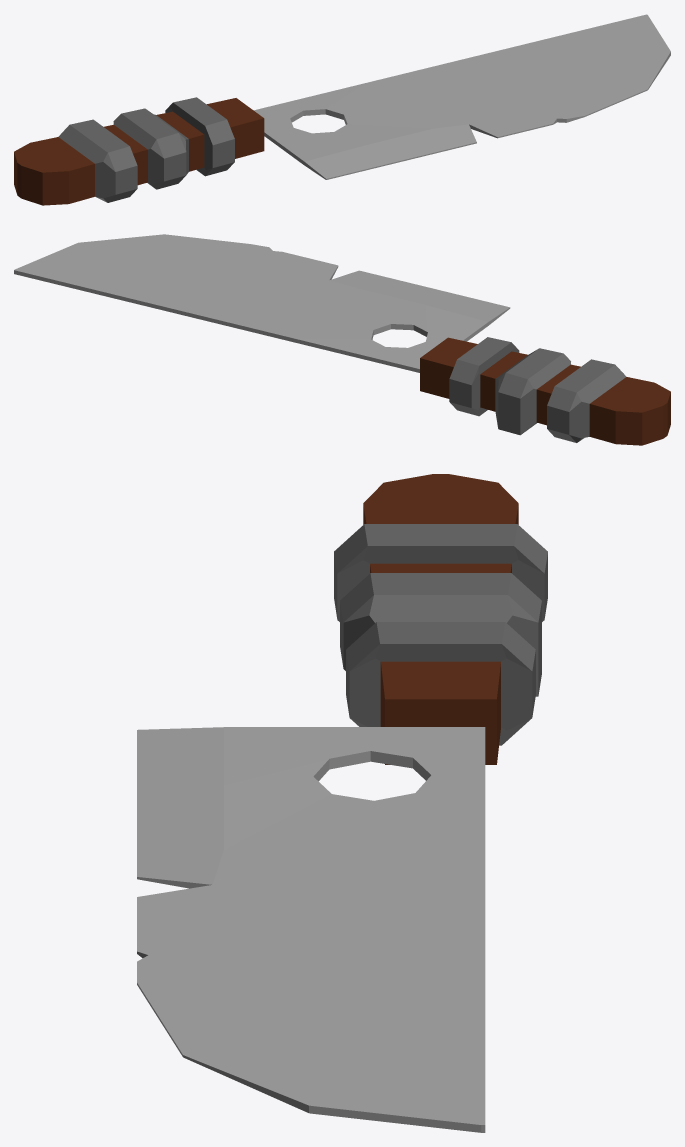
The model's file is Тест.fbx.
The picture shows the model from 3 angles, top to bottom: view 1: azimuth 30°, elevation 25°; view 2: azimuth 150°, elevation 25°; view 3: azimuth 270°, elevation 25°; orthographic projection. The views are drawn at different scales.
Visible parts, largest first — view 1: Куб, Плоскость; view 2: Куб, Плоскость; view 3: Куб, Плоскость.
Boxes of the visible parts, left/top/right/bottom form: Куб: left=254, top=14, right=670, bottom=179; Плоскость: left=14, top=97, right=264, bottom=205; Куб: left=14, top=234, right=510, bottom=372; Плоскость: left=420, top=337, right=670, bottom=445; Куб: left=137, top=727, right=485, bottom=1132; Плоскость: left=334, top=474, right=547, bottom=764.
Size of the model in its own units: 46.39 by 3.53 by 12.94.
